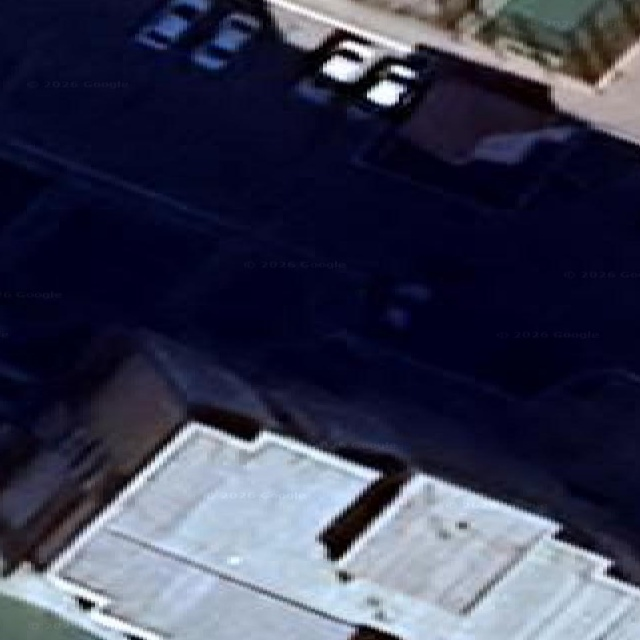car: (348, 52, 435, 116), (296, 40, 375, 103), (192, 12, 260, 70), (135, 0, 209, 48), (364, 62, 417, 111)
